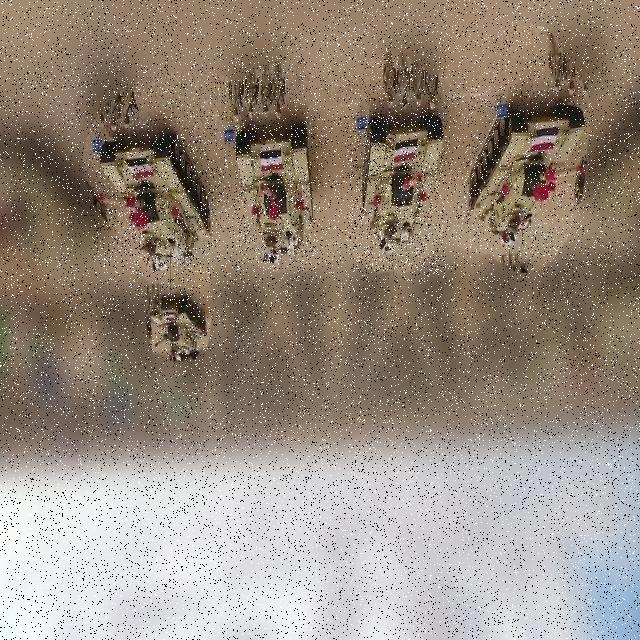MIL_MBT: (465, 100, 590, 272), (93, 135, 213, 275), (350, 114, 446, 274), (234, 125, 316, 272), (146, 289, 210, 361)
